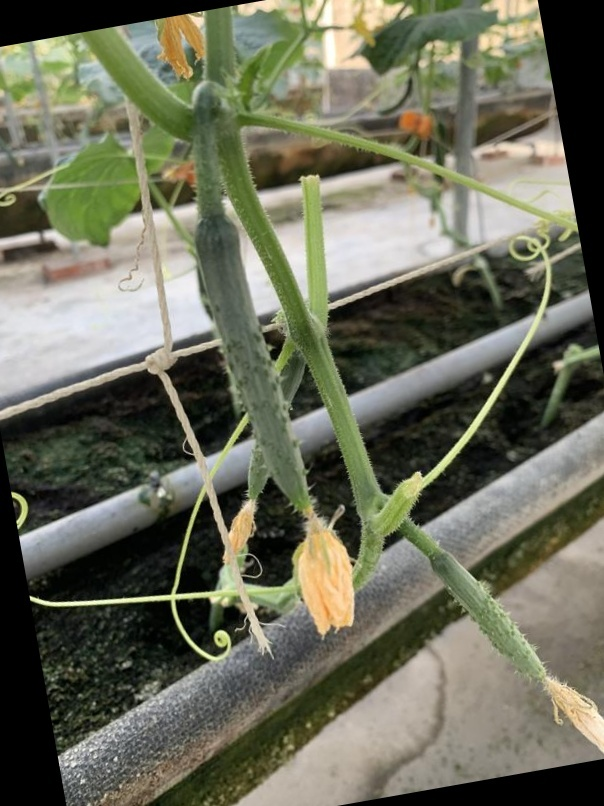bear: (418, 546, 604, 743)
growth: (183, 216, 355, 632)
